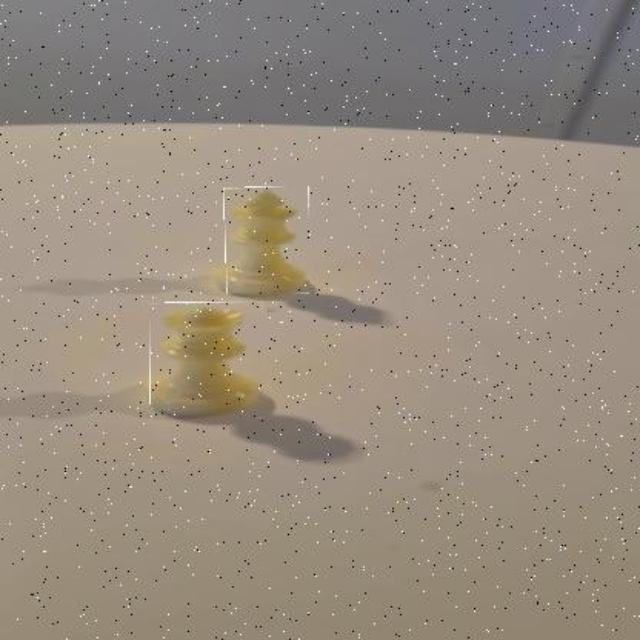white-king: (224, 188, 310, 296)
white-queen: (151, 304, 264, 420)
